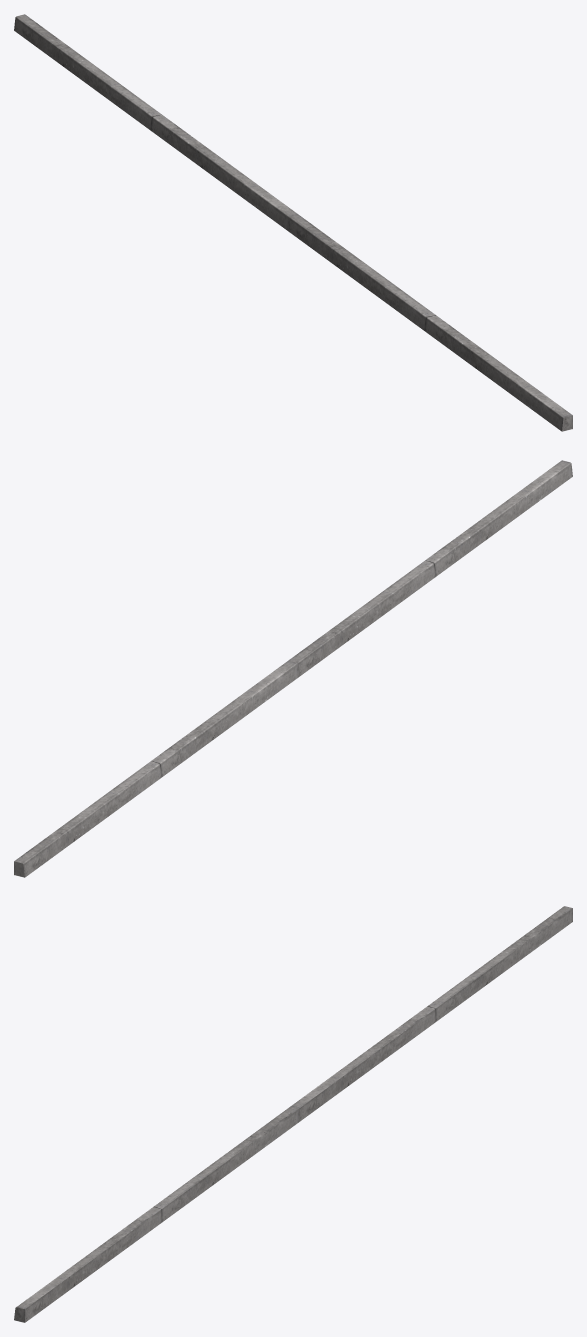
File: MB_Curbstone_8m.fbx
The picture shows the model from 3 angles, top to bottom: view 1: azimuth 30°, elevation 25°; view 2: azimuth 150°, elevation 25°; view 3: azimuth 330°, elevation 25°; orthographic projection.
Visible parts, largest first — view 1: MB_Curbstone_8m; view 2: MB_Curbstone_8m; view 3: MB_Curbstone_8m.
Boxes of the visible parts, x1=… form: MB_Curbstone_8m: x1=14, y1=14, x2=572, y2=431; MB_Curbstone_8m: x1=14, y1=460, x2=572, y2=877; MB_Curbstone_8m: x1=14, y1=906, x2=572, y2=1322.
Bounding box in the file's own units: 9.28 × 11 × 800.
